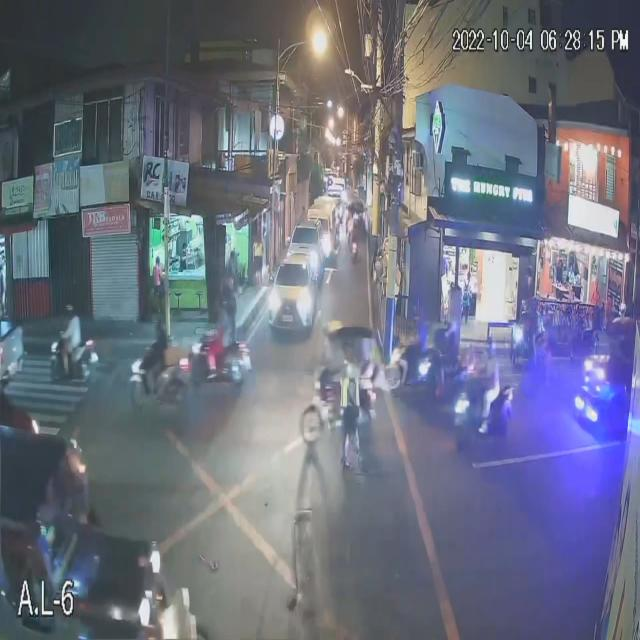Full-Faced: (482, 337, 500, 366), (151, 317, 167, 340), (65, 302, 77, 324), (223, 274, 238, 291)
